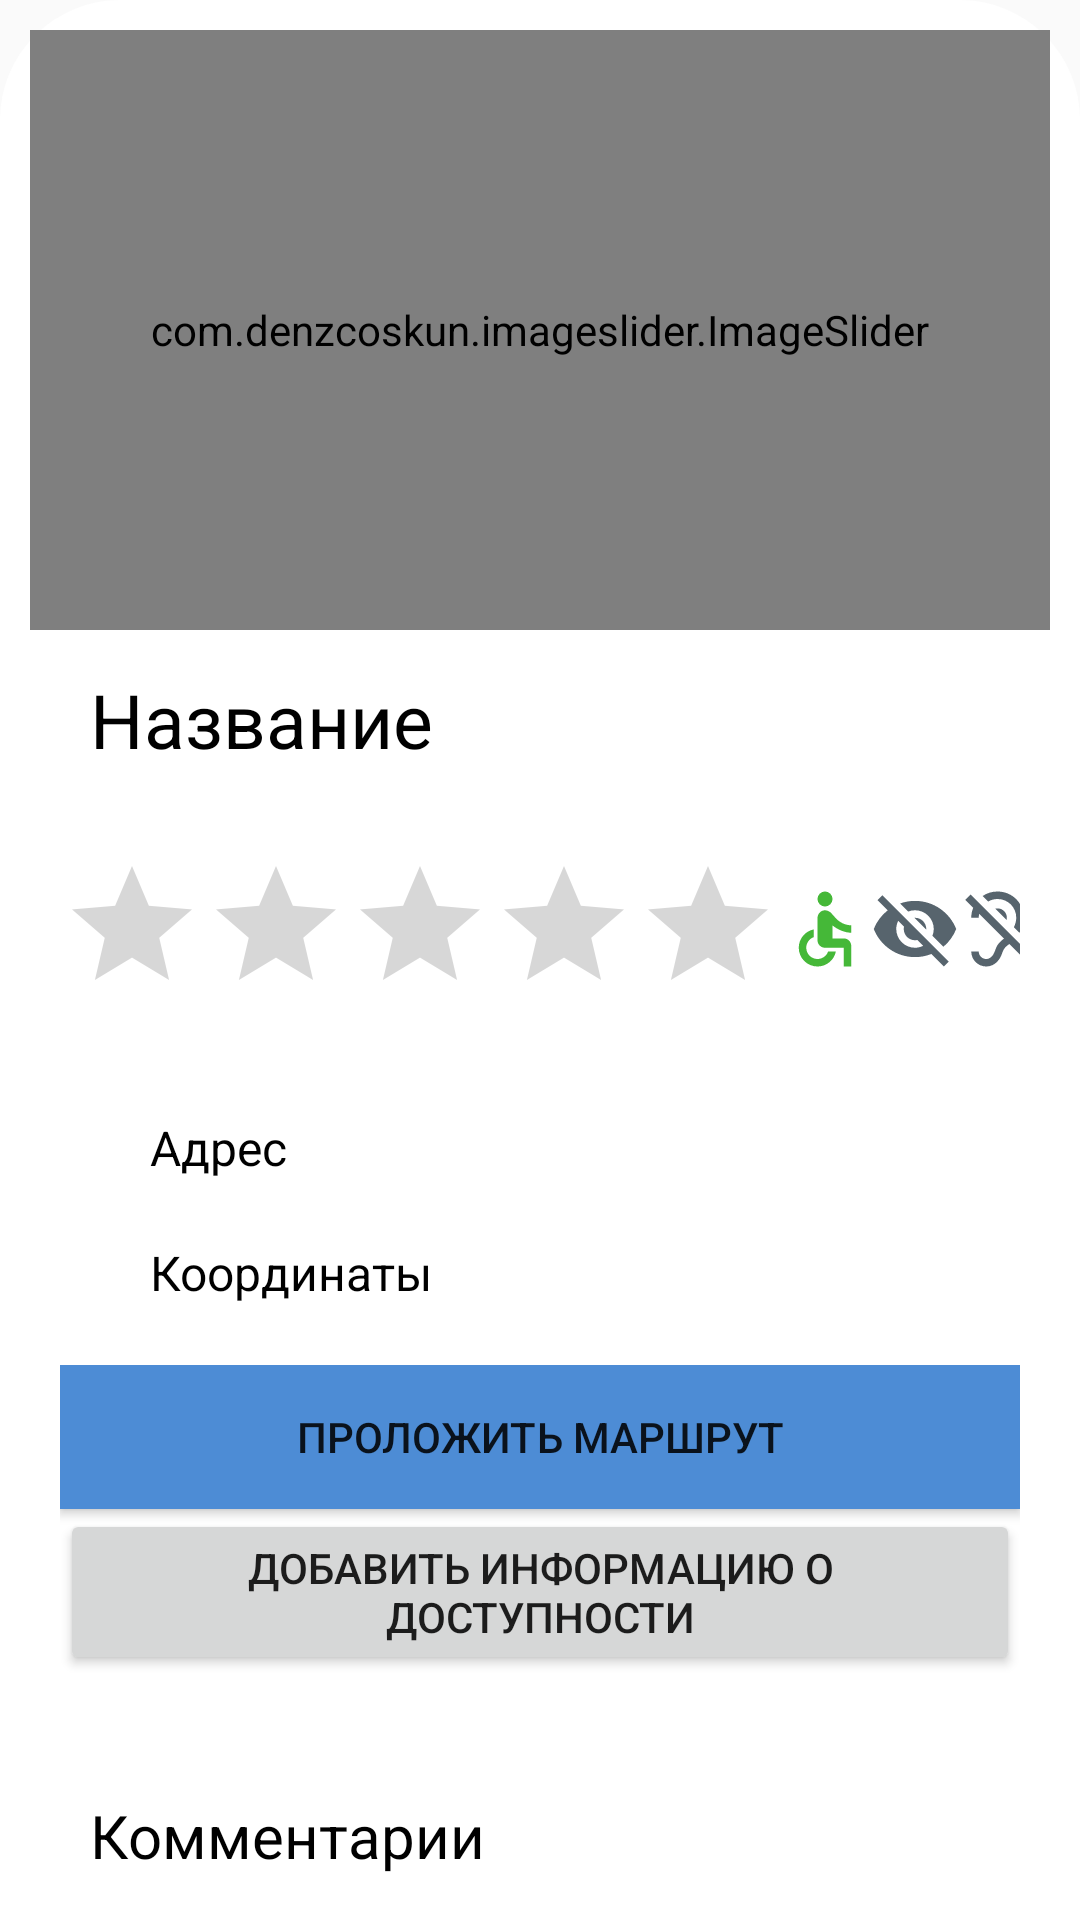

Icon click points for this 1080*1920 phone screenshot, format (x,y):
eye: (915,931)
hear: (992,929)
leg: (825,929)
